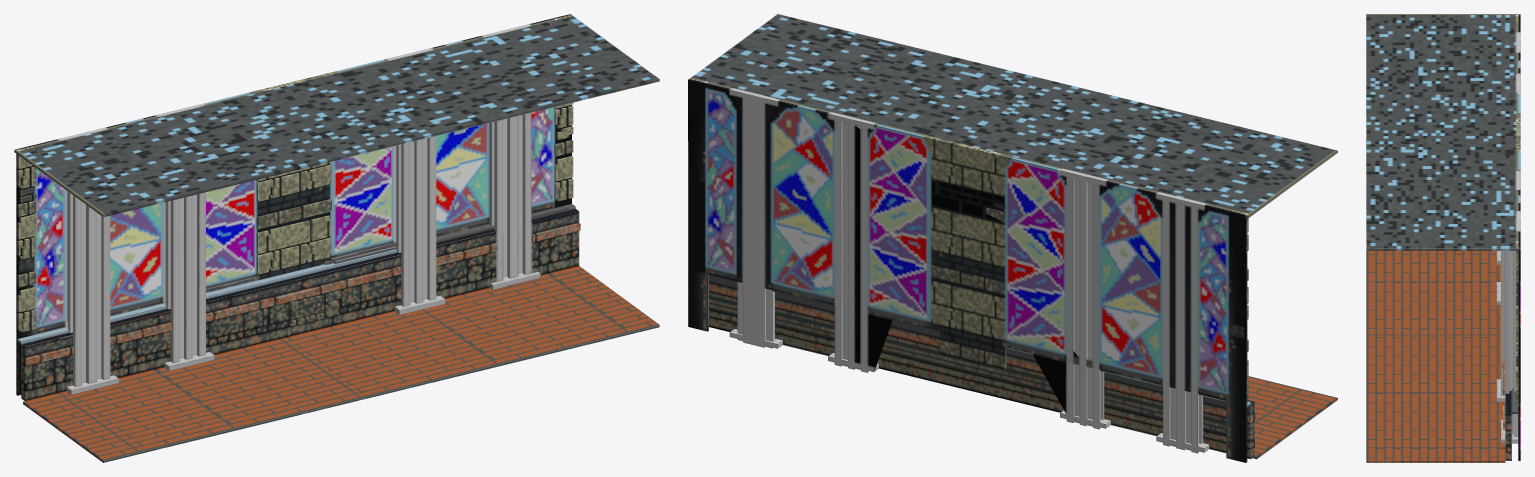
The model's file is 2 Castle Room Coridoro.fbx.
3 renders of one model, left to right at view 1: azimuth 30°, elevation 25°; view 2: azimuth 150°, elevation 25°; view 3: azimuth 270°, elevation 25°, orthographic. The views are drawn at different scales.
Visible parts, largest first — view 1: Untitled; view 2: Untitled; view 3: Untitled.
Boxes of the visible parts, <box> form: Untitled: <box>14,14,659,462</box>; Untitled: <box>688,14,1337,462</box>; Untitled: <box>1366,14,1520,462</box>.
Size of the model in its own units: 2560 by 1090 by 710.
Materials: 1 (1 with a texture image).
